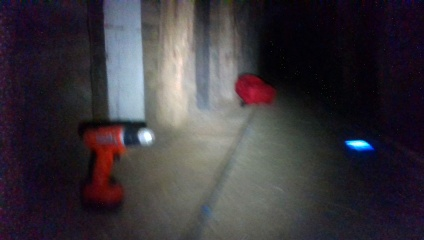backpack: (234, 72, 274, 108)
cellphone: (341, 136, 377, 161)
drill: (82, 124, 155, 216)
